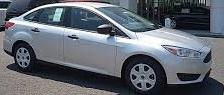Cars: (4, 4, 211, 94)
